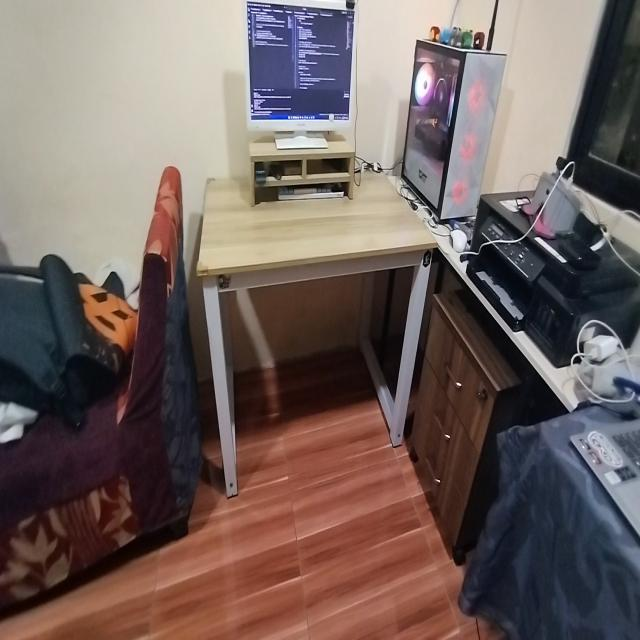table: (185, 171, 436, 462)
